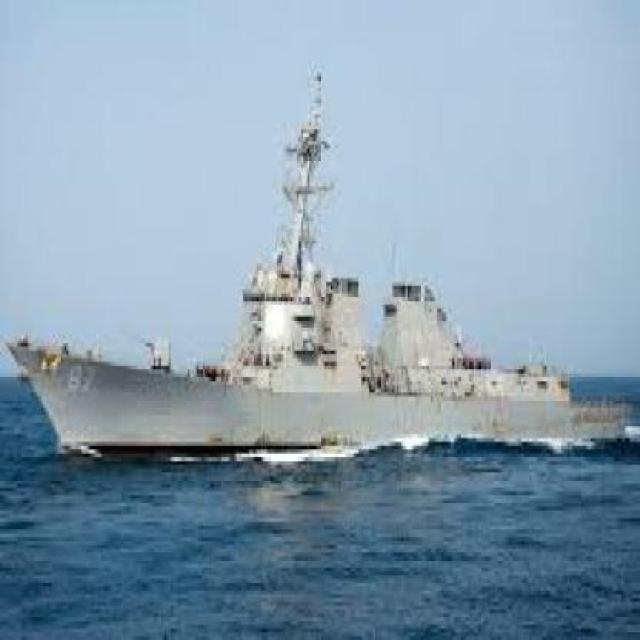warship2: (10, 50, 639, 504)
